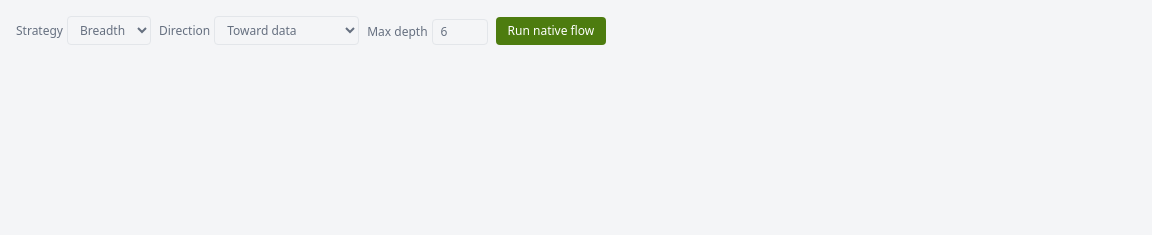
Test: TraceFlowVisualizer › runs the selected native strategy and renders real hops and gaps
This screenshot has width=1152, height=235.
Select "Depth" in the dropdown labelled "Strategy": (109, 30) 67,16 -> 151,45
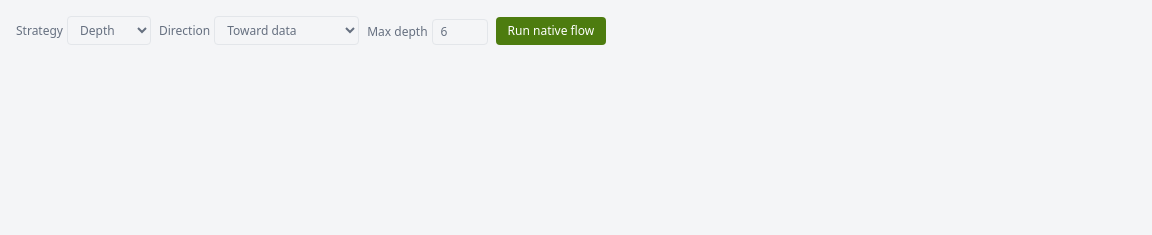
Replace the text in the number field labelled "Max depth" with "4": (460, 32) 432,19 -> 488,45
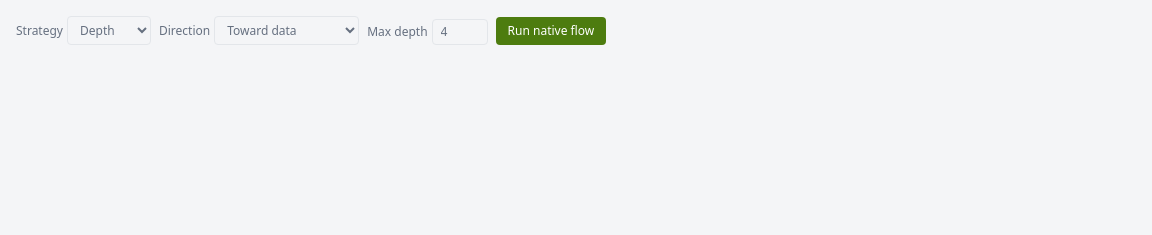
Click the button "Run native flow": click(551, 31) 496,17 -> 606,45
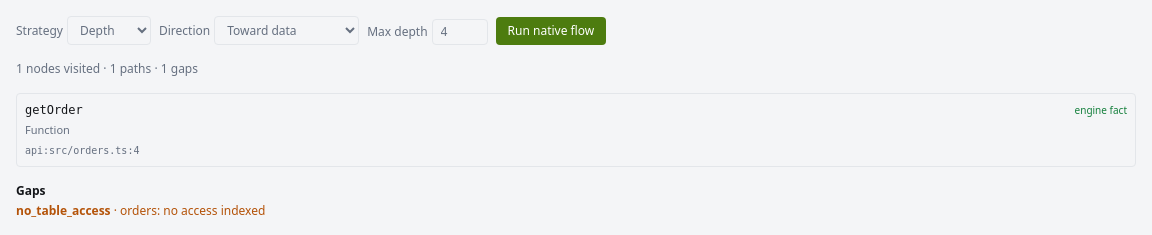
Now the text "getOrder" is shown, box 25,102 -> 83,118
Now the text "api:src/orders.ts:4" is shown, box 25,144 -> 139,156
Now the list item "no_table_access · orders: no access indexed" is shown, box 16,202 -> 265,218
